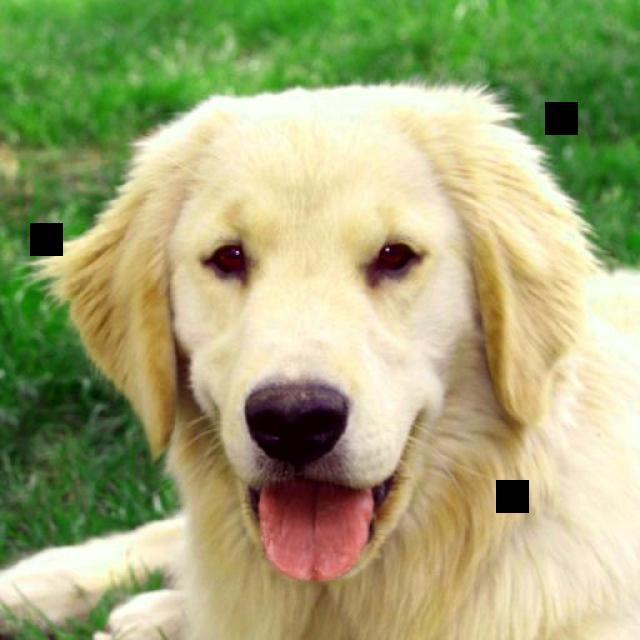puppy-dog: (1, 80, 640, 640)
